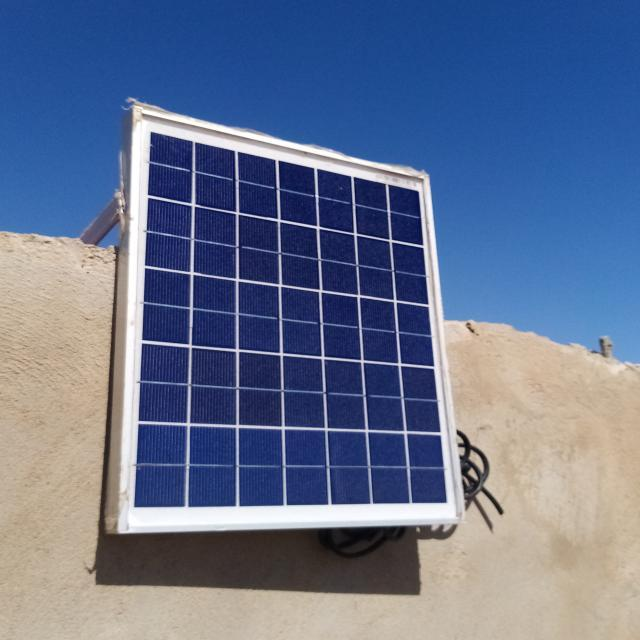no faulty: (121, 108, 464, 529)
